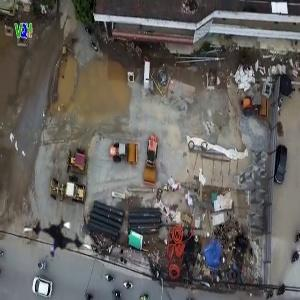drone: (19, 210, 97, 288)
